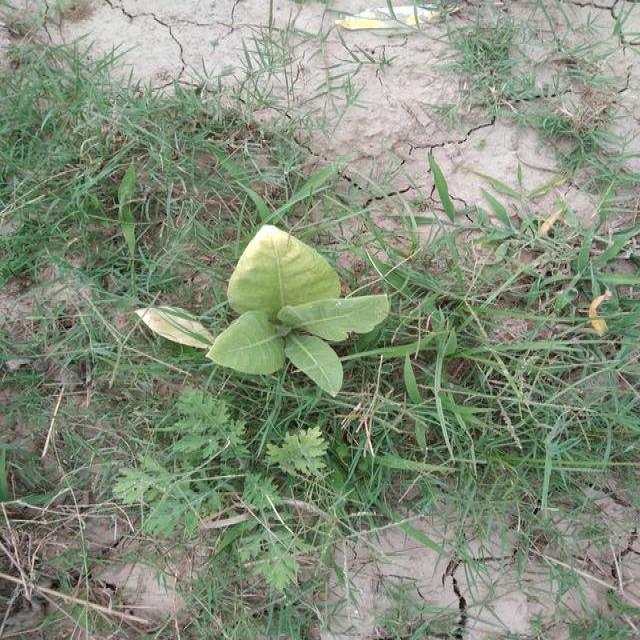crop: (130, 222, 400, 407)
